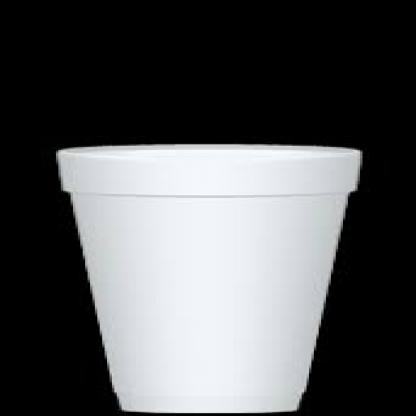paper: (48, 141, 358, 412)
